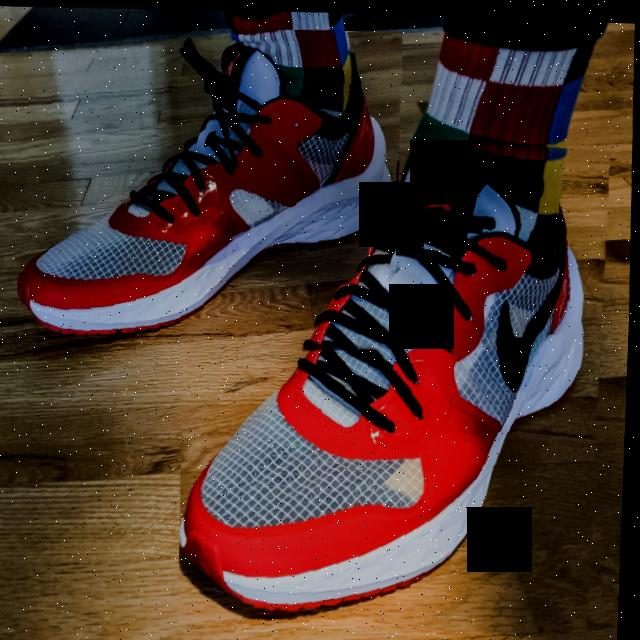shoe: (174, 114, 620, 637), (9, 18, 408, 370)
